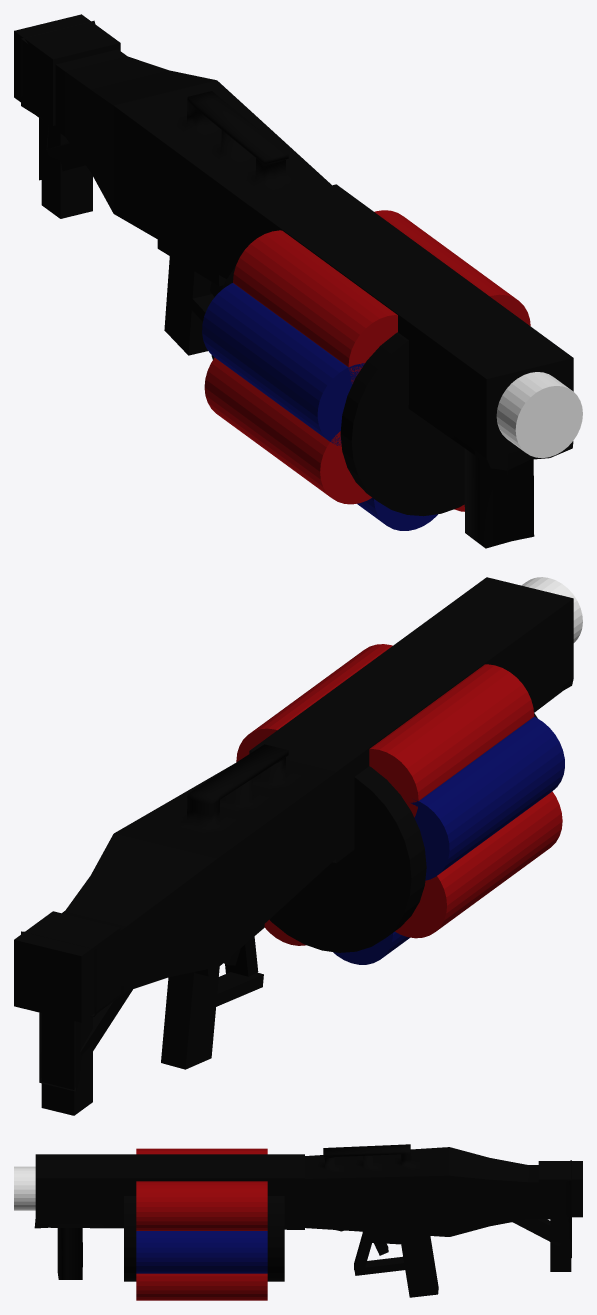
File: Grenade Launcher.fbx
The picture shows the model from 3 angles, top to bottom: view 1: azimuth 30°, elevation 25°; view 2: azimuth 150°, elevation 25°; view 3: azimuth 270°, elevation 25°; orthographic projection. The views are drawn at different scales.
Parts seen in each view (by area): view 1: Cube, Cylinder, Cylinder.008, Cylinder.009, Cylinder.007, Cube.001, Cylinder.002, Cylinder.003, Cylinder.006; view 2: Cube, Cylinder.001, Cube.001, Cylinder.008, Cylinder.009, Cylinder.007, Cylinder.003, Cylinder.006, Cylinder.002; view 3: Cube, Cylinder.003, Cylinder.004, Cylinder.005, Cube.001, Cylinder.001, Cylinder, Cylinder.002, Cylinder.009.
Boxes of the visible parts, x1=… form: Cube: x1=21, y1=20, x2=573, y2=548; Cylinder: x1=340, y1=332, x2=464, y2=516; Cylinder.008: x1=202, y1=283, x2=364, y2=445; Cylinder.009: x1=233, y1=230, x2=397, y2=383; Cylinder.007: x1=204, y1=357, x2=371, y2=504; Cube.001: x1=14, y1=14, x2=120, y2=218; Cylinder.002: x1=496, y1=372, x2=582, y2=457; Cylinder.003: x1=374, y1=210, x2=530, y2=325; Cylinder.006: x1=357, y1=497, x2=437, y2=530; Cube: x1=21, y1=577, x2=573, y2=1091; Cylinder.001: x1=269, y1=766, x2=426, y2=952; Cube.001: x1=14, y1=911, x2=120, y2=1115; Cylinder.008: x1=411, y1=717, x2=564, y2=880; Cylinder.009: x1=369, y1=664, x2=534, y2=817; Cylinder.007: x1=395, y1=791, x2=562, y2=938; Cylinder.003: x1=236, y1=644, x2=392, y2=762; Cylinder.006: x1=333, y1=931, x2=409, y2=964; Cylinder.002: x1=521, y1=577, x2=582, y2=642; Cube: x1=34, y1=1144, x2=571, y2=1297; Cylinder.003: x1=136, y1=1181, x2=267, y2=1230; Cylinder.004: x1=136, y1=1231, x2=267, y2=1273; Cylinder.005: x1=136, y1=1273, x2=267, y2=1300; Cube.001: x1=538, y1=1161, x2=582, y2=1271; Cylinder.001: x1=267, y1=1196, x2=284, y2=1281; Cylinder: x1=124, y1=1196, x2=136, y2=1281; Cylinder.002: x1=14, y1=1166, x2=35, y2=1210; Cylinder.009: x1=136, y1=1148, x2=267, y2=1154.
Bounding box in the file's own units: 167 × 186 × 654.
